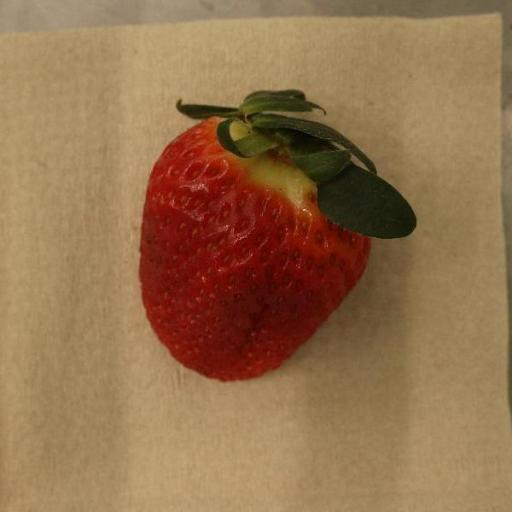Strawberry: (139, 90, 417, 383)
